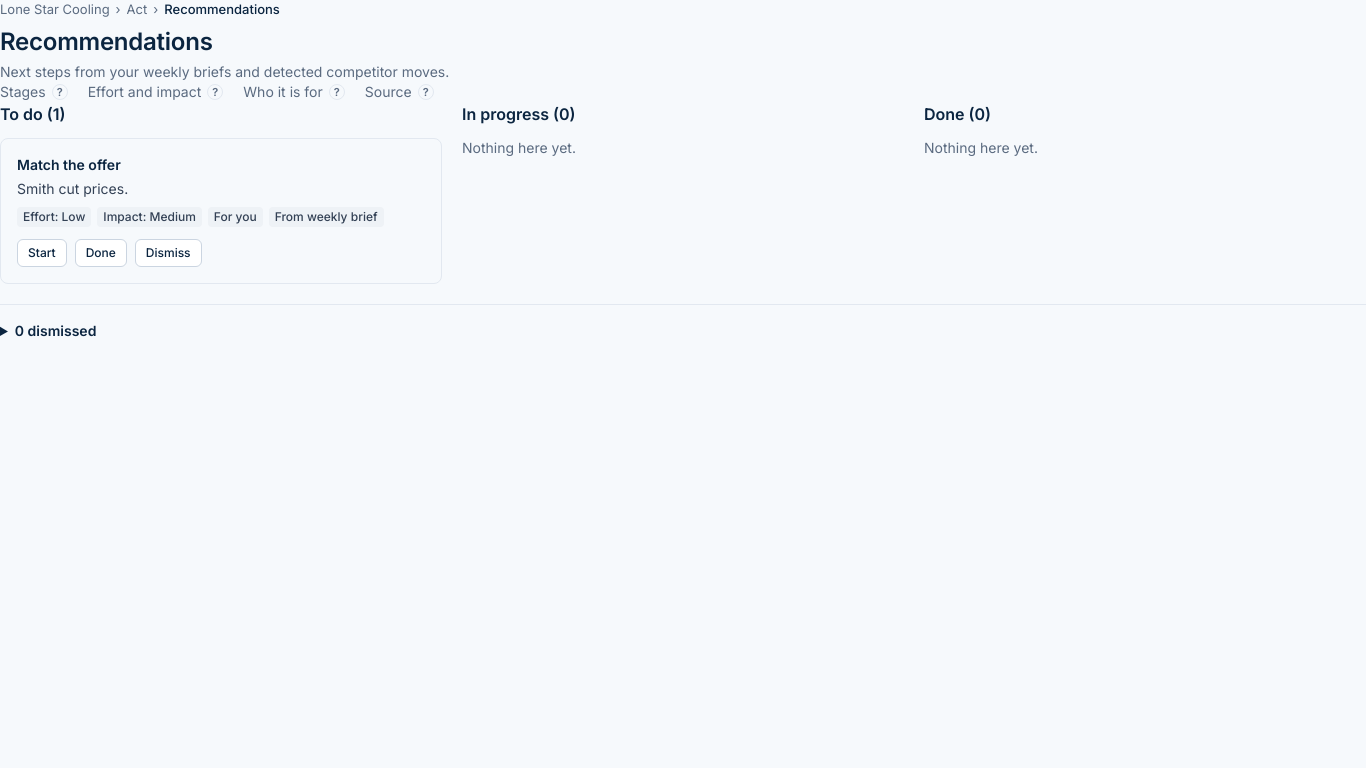
Test: client batch B: Recommendations › the origin tip names the three sources and does not promise Ask by name
This screenshot has width=1366, height=768.
Click the button named "Where a recommendation came from".
click(426, 92)  # box [418, 84, 434, 100]
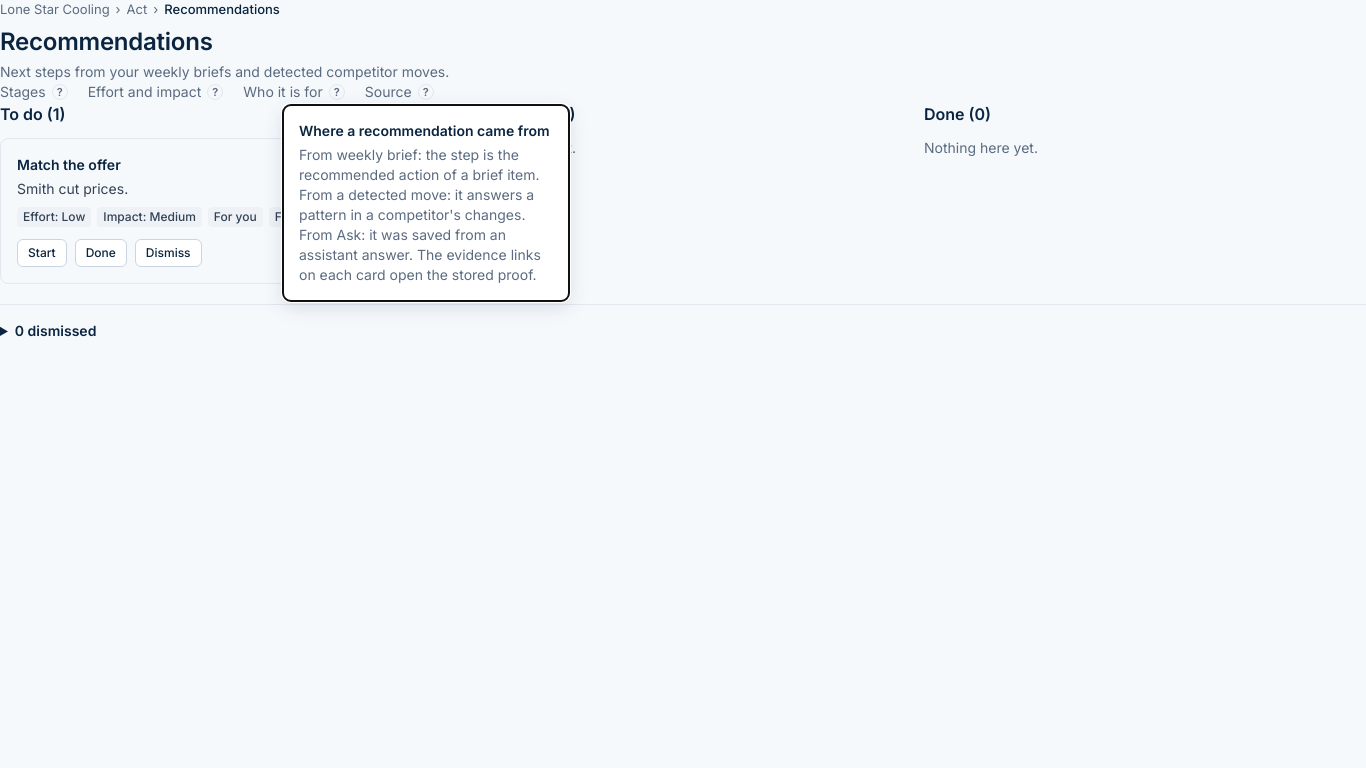
Expected: the text "From weekly brief" is shown, [269, 207, 384, 227]
Result: the text "From a detected move" is shown at [299, 146, 541, 283]
Result: the text "From Ask" is shown at [299, 146, 541, 283]
